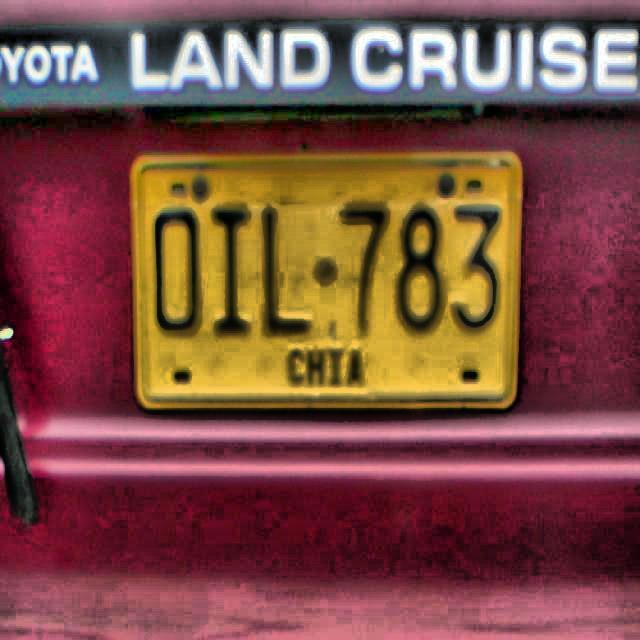plate: (140, 157, 512, 404)
